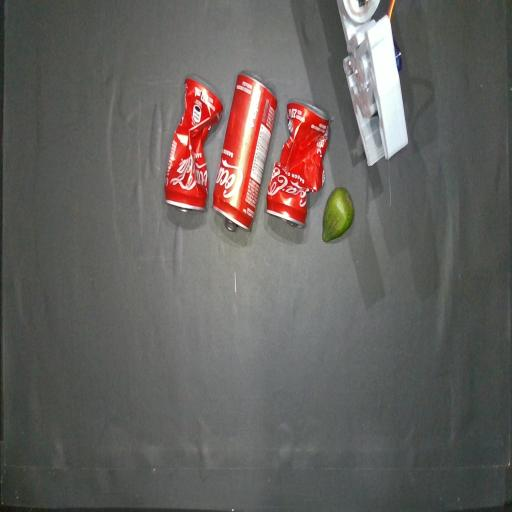higo: (322, 188, 354, 242)
lata: (213, 72, 277, 230)
lata_defectuoso: (164, 76, 223, 210), (266, 101, 329, 226)
